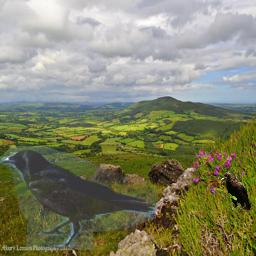Crow: (0, 146, 158, 250), (220, 171, 251, 213)
